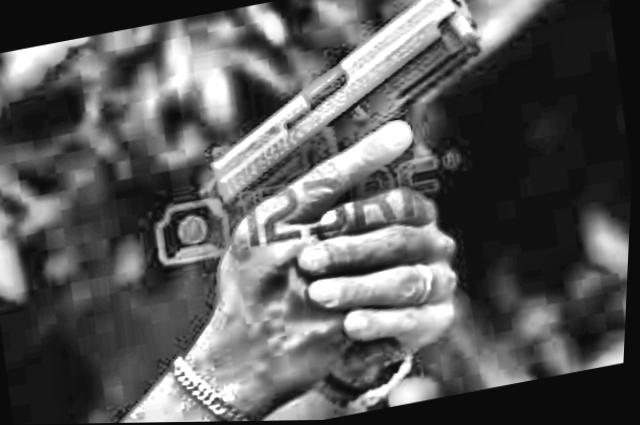pistol: (182, 0, 497, 235)
